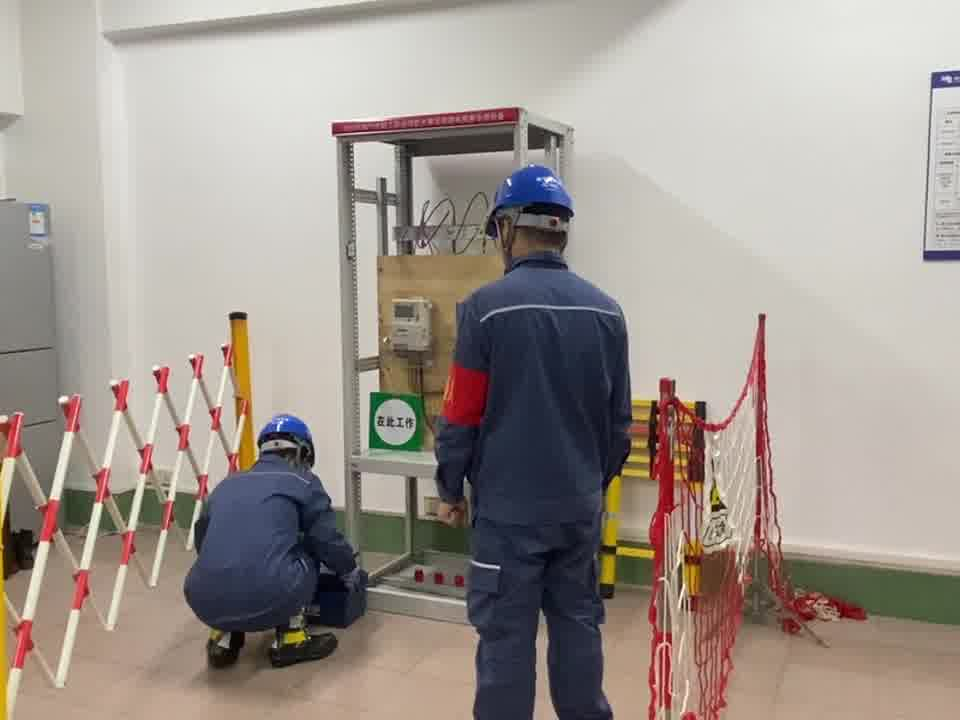badge: (440, 364, 492, 428)
downsuit: (462, 528, 619, 720)
halt: (487, 163, 579, 258), (257, 413, 317, 467)
hand: (432, 498, 475, 528)
inear: (488, 211, 522, 267)
person: (428, 160, 640, 720), (188, 410, 371, 664)
shoe: (270, 620, 338, 661), (203, 625, 245, 662)
upsuit: (431, 257, 636, 530), (185, 468, 345, 608)
worksign: (367, 392, 422, 451)
